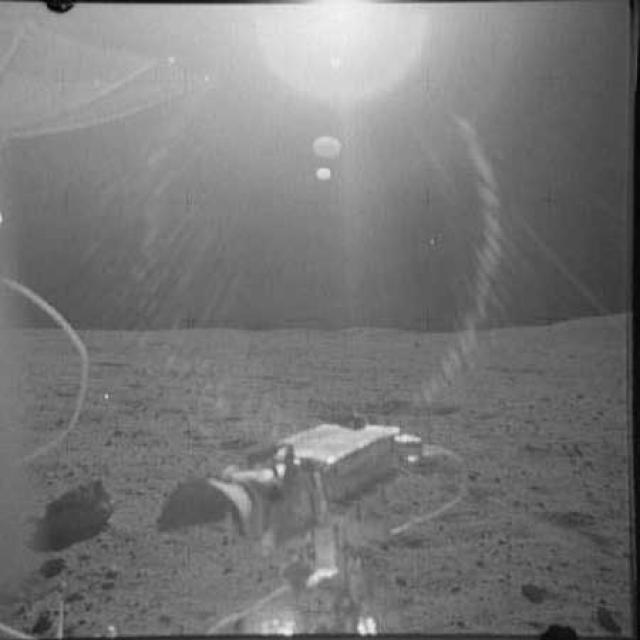crater: (324, 385, 477, 422)
rock: (37, 471, 124, 537), (30, 598, 64, 632), (590, 599, 626, 630), (35, 550, 71, 578), (514, 574, 552, 599), (538, 619, 575, 638)
